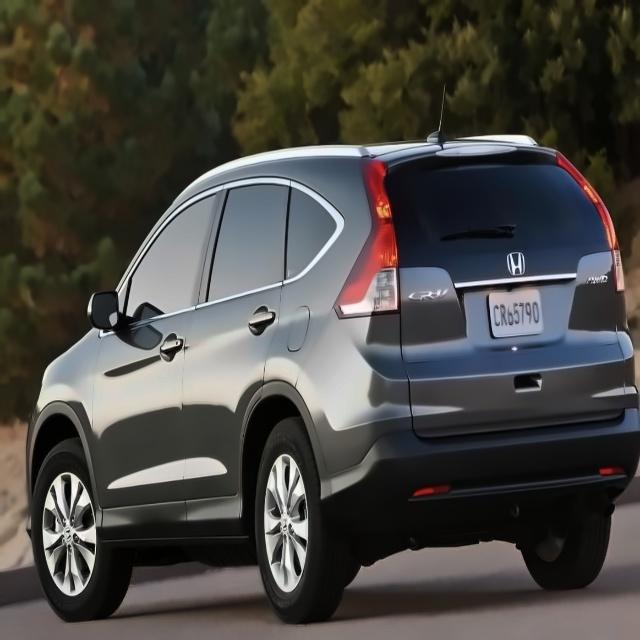Car boot: (383, 148, 630, 443)
Fender - -F-L-: (42, 324, 110, 552)
Fender - -R-L-: (258, 221, 385, 403)
Front bumper: (20, 384, 58, 546)
Passenger-s door - -F-L-: (96, 172, 208, 519)
Passenger-s door - -R-L-: (198, 167, 315, 522)
Rear bumper: (306, 332, 640, 531)
Rear light - -L-: (330, 154, 416, 325)
Rear light - -R-: (548, 142, 631, 294)
Side bumper - -L-: (90, 493, 267, 567)
Side mirror - -L-: (83, 278, 130, 342)
